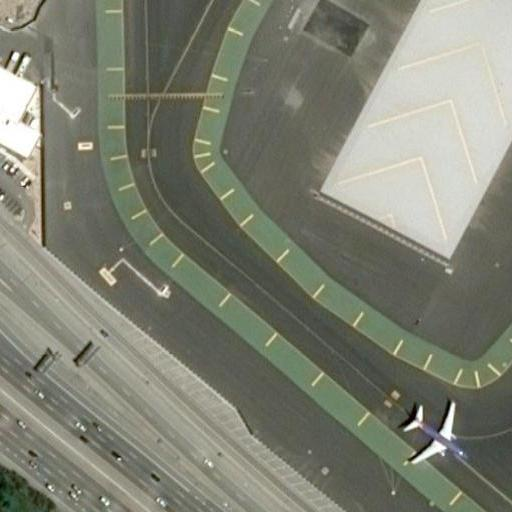Aircraft: (403, 393, 468, 472)
